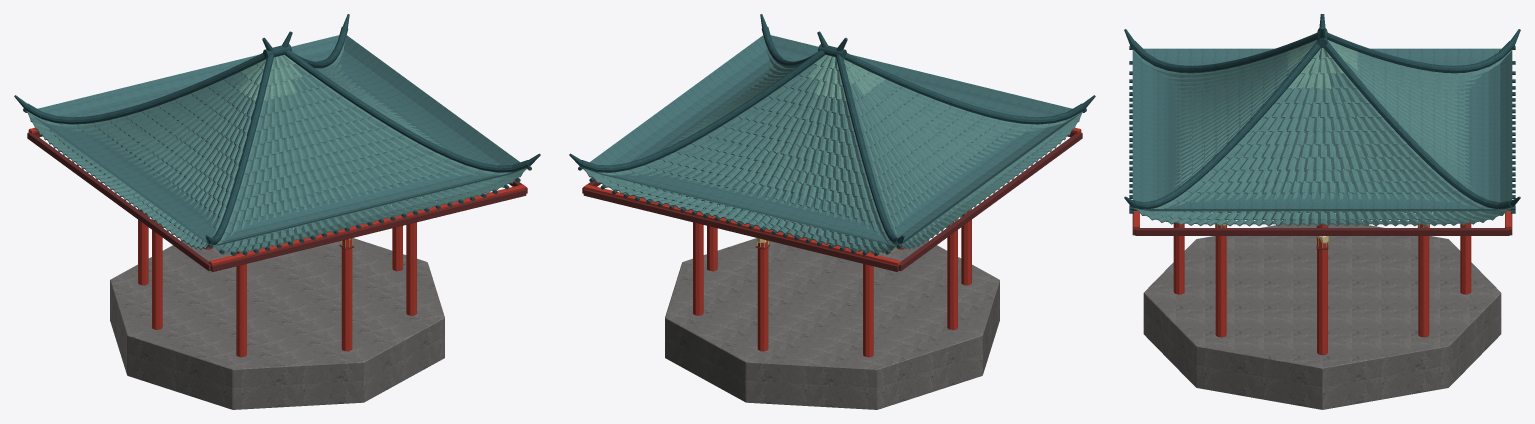
The model's file is reference-public_models_places_dicuiting.glb.
The picture shows the model from 3 angles, left to right: view 1: azimuth 30°, elevation 25°; view 2: azimuth 150°, elevation 25°; view 3: azimuth 270°, elevation 25°; orthographic projection. The views are drawn at different scales.
Visible parts, largest first — view 1: dicuiting_stone.001, dicuiting_tile.001, dicuiting_roof.001, dicuiting_tiledark, dicuiting_wood.001, dicuiting_darkwood, dicuiting_tilelight; view 2: dicuiting_stone.001, dicuiting_tile.001, dicuiting_roof.001, dicuiting_tiledark, dicuiting_wood.001, dicuiting_darkwood, dicuiting_tilelight; view 3: dicuiting_stone.001, dicuiting_tile.001, dicuiting_roof.001, dicuiting_tiledark, dicuiting_wood.001, dicuiting_darkwood, dicuiting_tilelight.
Boxes of the visible parts, box(x1,y1,x2,y2) form: dicuiting_stone.001: box(110, 229, 444, 409); dicuiting_tile.001: box(26, 38, 527, 252); dicuiting_roof.001: box(30, 35, 523, 245); dicuiting_tiledark: box(14, 14, 540, 256); dicuiting_wood.001: box(28, 127, 526, 357); dicuiting_darkwood: box(27, 132, 527, 271); dicuiting_tilelight: box(236, 55, 303, 103); dicuiting_stone.001: box(665, 229, 999, 409); dicuiting_tile.001: box(582, 37, 1083, 252); dicuiting_roof.001: box(586, 35, 1079, 245); dicuiting_tiledark: box(569, 14, 1095, 256); dicuiting_wood.001: box(583, 127, 1081, 357); dicuiting_darkwood: box(582, 132, 1082, 271); dicuiting_tilelight: box(806, 55, 885, 102); dicuiting_stone.001: box(1143, 224, 1501, 409); dicuiting_tile.001: box(1132, 49, 1512, 226); dicuiting_roof.001: box(1132, 48, 1512, 211); dicuiting_tiledark: box(1124, 14, 1520, 213); dicuiting_wood.001: box(1133, 211, 1511, 354); dicuiting_darkwood: box(1132, 213, 1512, 249); dicuiting_tilelight: box(1287, 40, 1357, 90).
Size of the model in its own units: 11.15 by 9.68 by 11.08.
Materials: 9 (7 with a texture image).
